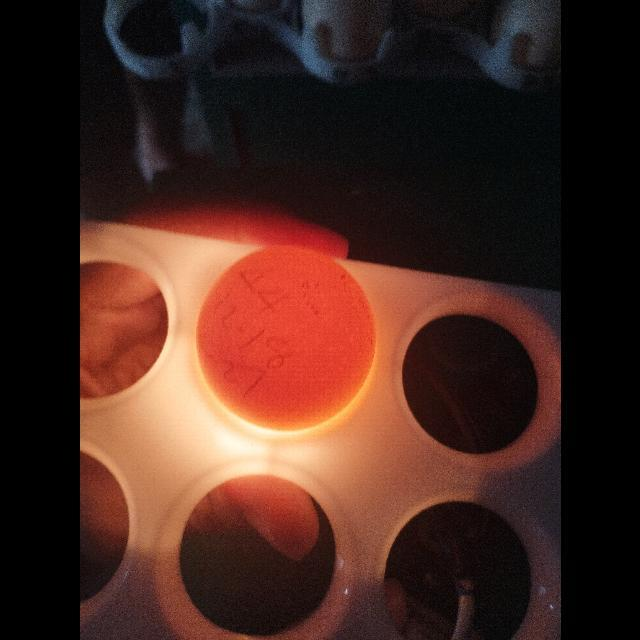Infertile: (193, 243, 381, 437)
